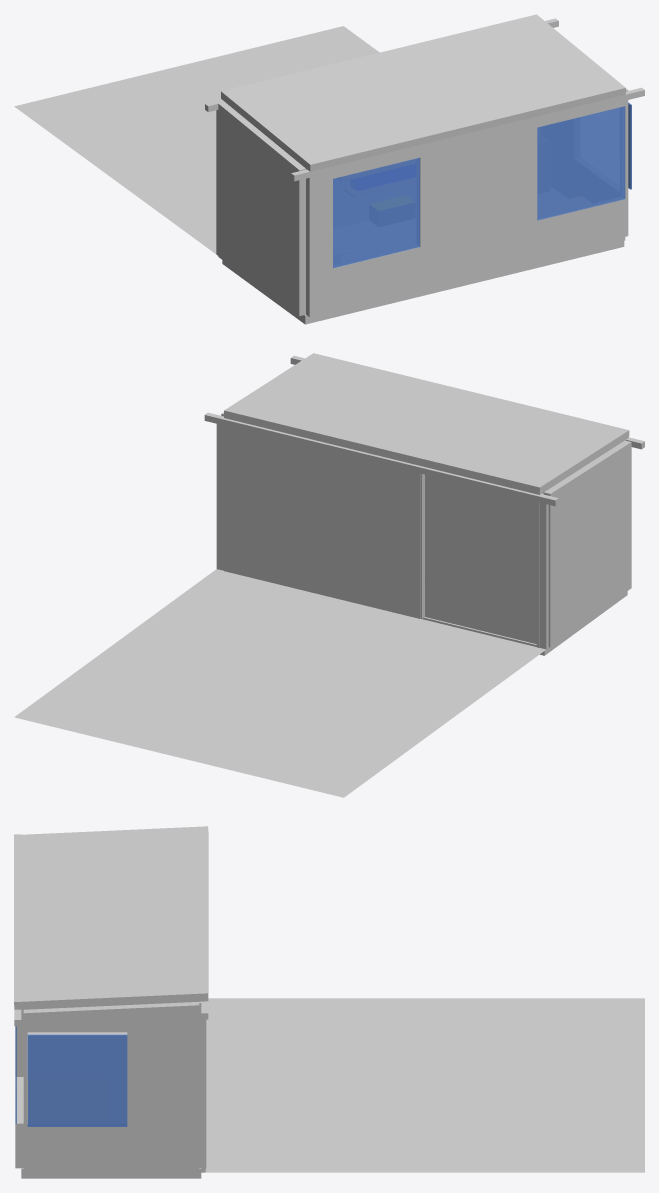
Rendered from mistnost_2_sk24.dae.
3 views of the same model, one above another, from view 1: azimuth 30°, elevation 25°; view 2: azimuth 150°, elevation 25°; view 3: azimuth 270°, elevation 25° (orthographic). The views are drawn at different scales.
Parts seen in each view (by area): view 1: insulation_mineral_ceiling_10_cm, insulation_wall_west_7_cm, room_1_pergola_area_boundary, insulation_wall_north_7_cm, windos_south_west, window_west, insulation_mineral_floor_10_cm, Beam_truss_main_5_m, insulation_wall_south_7_cm, wall_inner_north_wooden; view 2: room_1_pergola_area_boundary, insulation_wall_east_7_cm, insulation_mineral_ceiling_10_cm, Entry_opening_raw_frame_east_wall, insulation_wall_north_7_cm, Beam_truss_main_5_m, Beam_east_wall (×2); view 3: room_1_pergola_area_boundary, insulation_mineral_ceiling_10_cm, insulation_wall_south_7_cm, window_south, insulation_mineral_floor_10_cm, insulation_wall_west_7_cm, Beam_east_wall.
Boxes of the visible parts, bbox=[...] form: insulation_mineral_ceiling_10_cm: bbox=[221, 14, 625, 171]; insulation_wall_west_7_cm: bbox=[307, 101, 625, 317]; room_1_pergola_area_boundary: bbox=[14, 26, 379, 253]; insulation_wall_north_7_cm: bbox=[218, 102, 304, 316]; windos_south_west: bbox=[537, 106, 625, 220]; window_west: bbox=[333, 157, 419, 268]; insulation_mineral_floor_10_cm: bbox=[222, 241, 624, 324]; Beam_truss_main_5_m: bbox=[291, 87, 644, 181]; insulation_wall_south_7_cm: bbox=[625, 88, 628, 236]; wall_inner_north_wooden: bbox=[223, 102, 305, 314]; room_1_pergola_area_boundary: bbox=[14, 569, 545, 797]; insulation_wall_east_7_cm: bbox=[224, 418, 541, 647]; insulation_mineral_ceiling_10_cm: bbox=[224, 353, 629, 494]; Entry_opening_raw_frame_east_wall: bbox=[425, 474, 536, 643]; insulation_wall_north_7_cm: bbox=[545, 441, 631, 647]; Beam_truss_main_5_m: bbox=[204, 412, 558, 506]; Beam_east_wall (×2): bbox=[216, 424, 548, 649]; room_1_pergola_area_boundary: bbox=[205, 998, 644, 1172]; insulation_mineral_ceiling_10_cm: bbox=[14, 826, 208, 1009]; insulation_wall_south_7_cm: bbox=[23, 1002, 199, 1171]; window_south: bbox=[27, 1034, 127, 1126]; insulation_mineral_floor_10_cm: bbox=[21, 1170, 201, 1178]; insulation_wall_west_7_cm: bbox=[15, 1026, 21, 1168]; Beam_east_wall: bbox=[201, 1019, 205, 1172].
Size of the model in its own units: 197 by 283 by 91.18.
